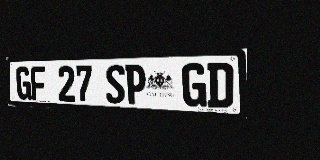2: (58, 65, 75, 102)
7: (75, 65, 93, 103)
D: (207, 62, 233, 108)
F: (30, 66, 47, 101)
G: (182, 63, 206, 107), (16, 66, 31, 100)
P: (125, 64, 146, 105)
S: (105, 64, 125, 104)
